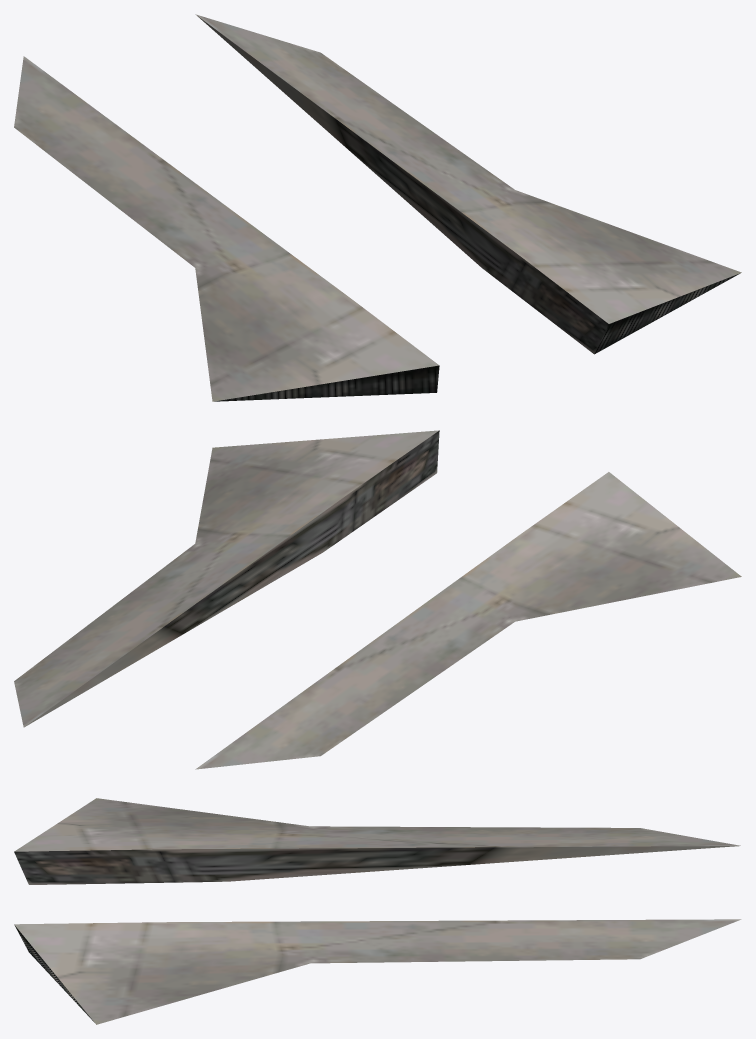
The model's file is hutt_fighter_light_struct_s01_l3.fbx.
3 renders of one model, top to bottom at view 1: azimuth 30°, elevation 25°; view 2: azimuth 150°, elevation 25°; view 3: azimuth 270°, elevation 25°, orthographic. The views are drawn at different scales.
Visible parts, largest first — view 1: mesh_node; view 2: mesh_node; view 3: mesh_node.
Part boxes in pixels (x1,y1,x2,y2): mesh_node: (14, 14, 741, 401); mesh_node: (14, 430, 741, 769); mesh_node: (14, 798, 741, 1024).
Bounding box in the file's own units: 11.98 × 0.89 × 16.25.
